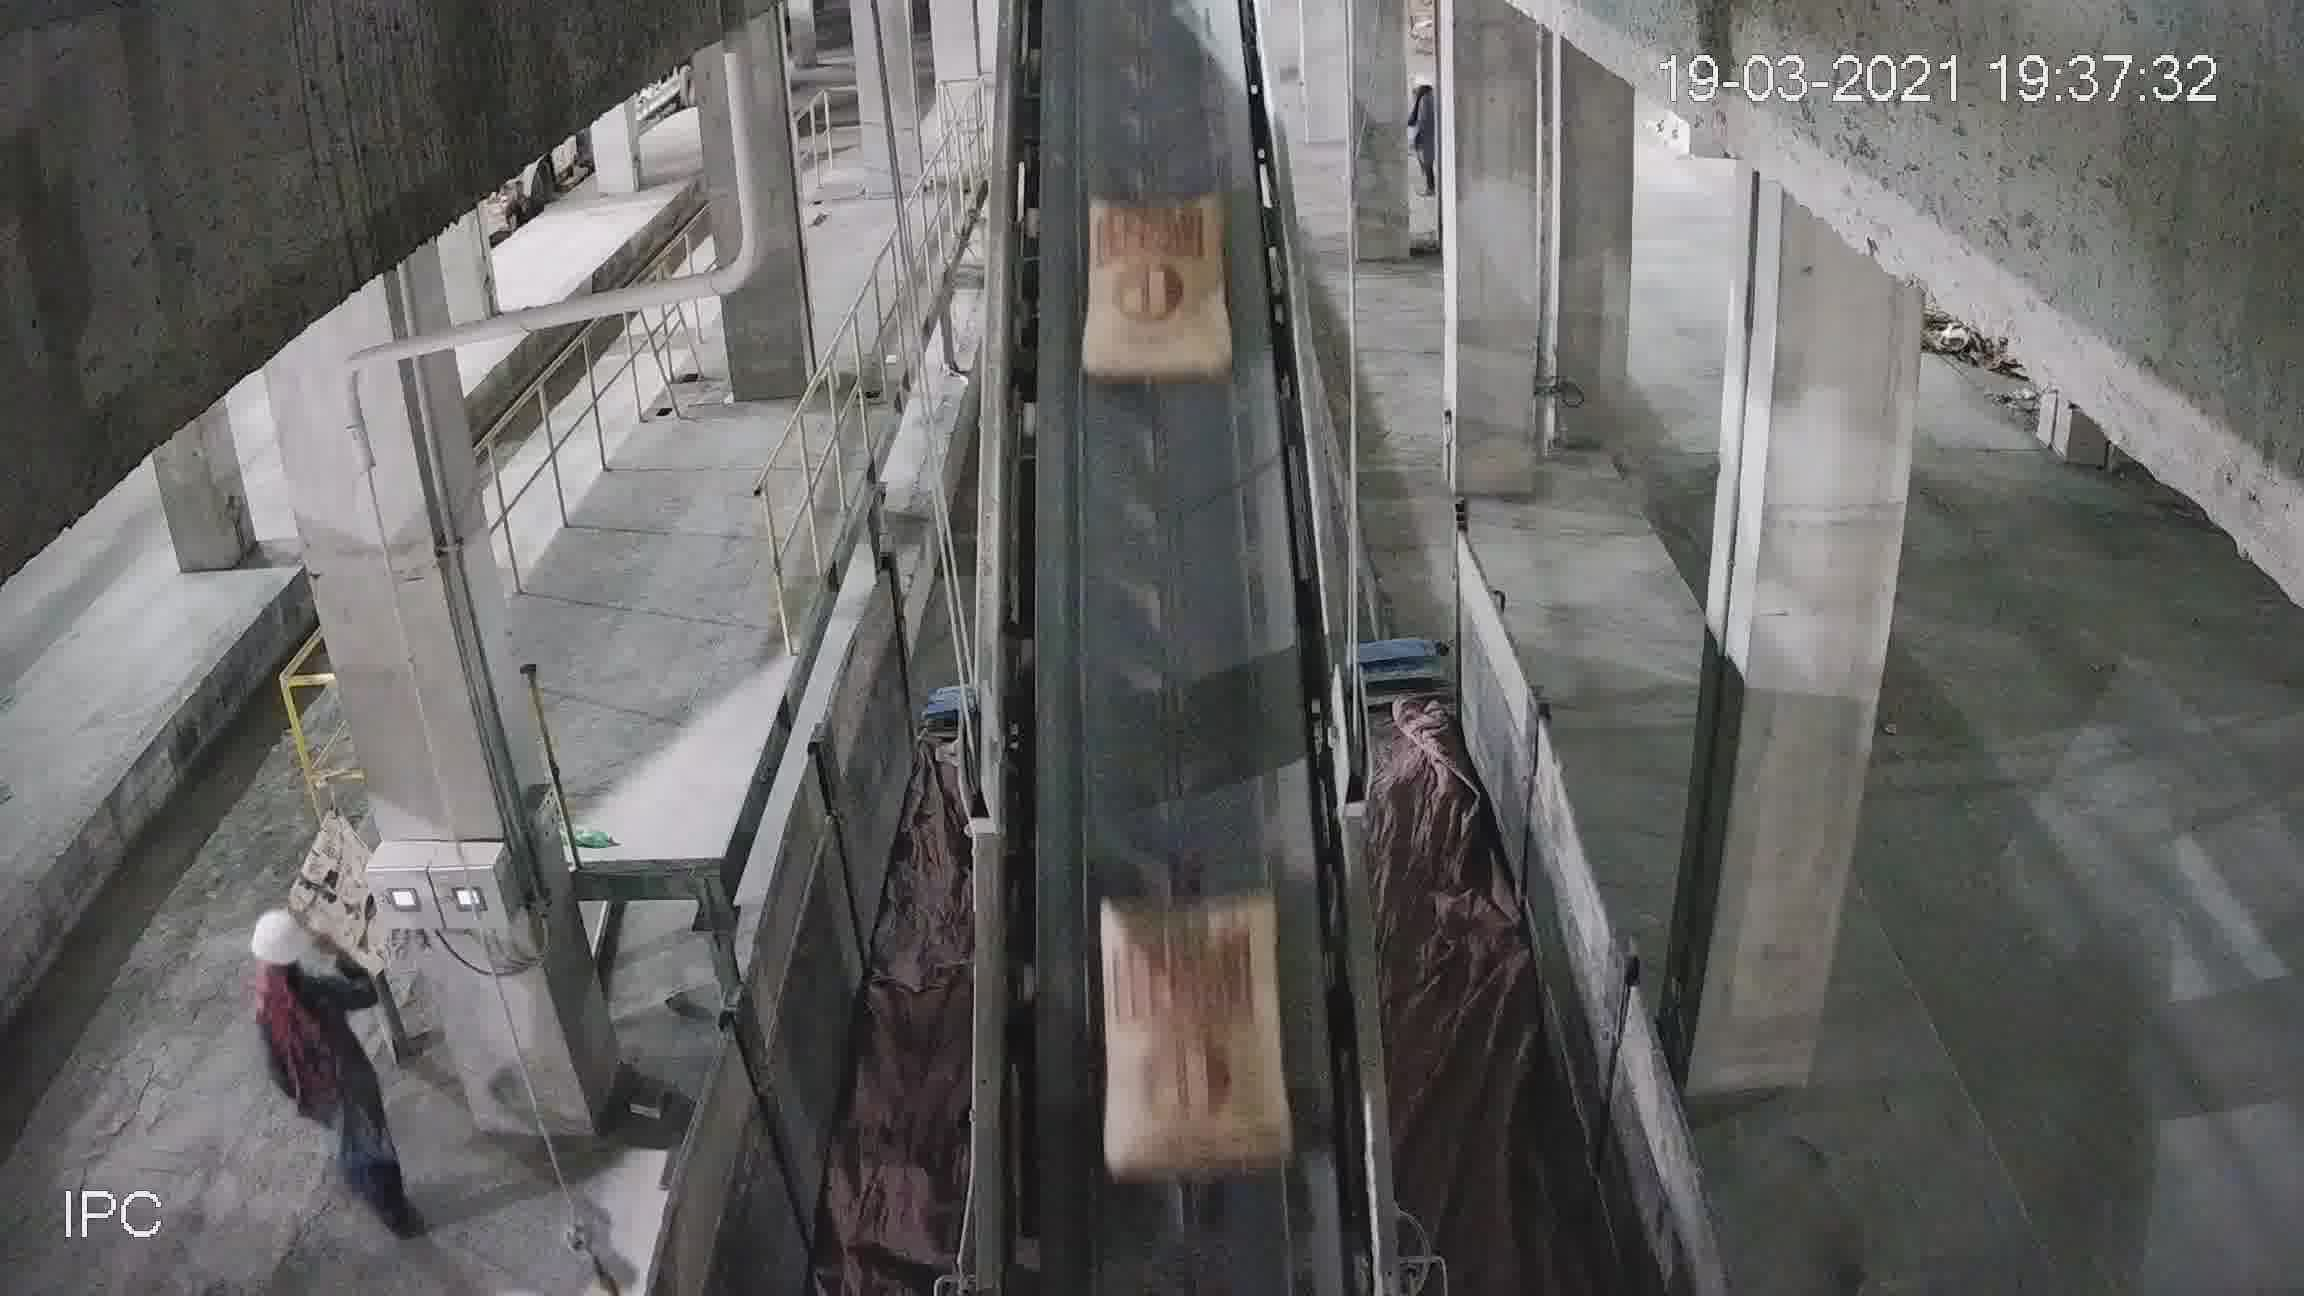bag: (1100, 897, 1287, 1180), (1086, 207, 1225, 377)
belt: (976, 43, 1359, 1116)
